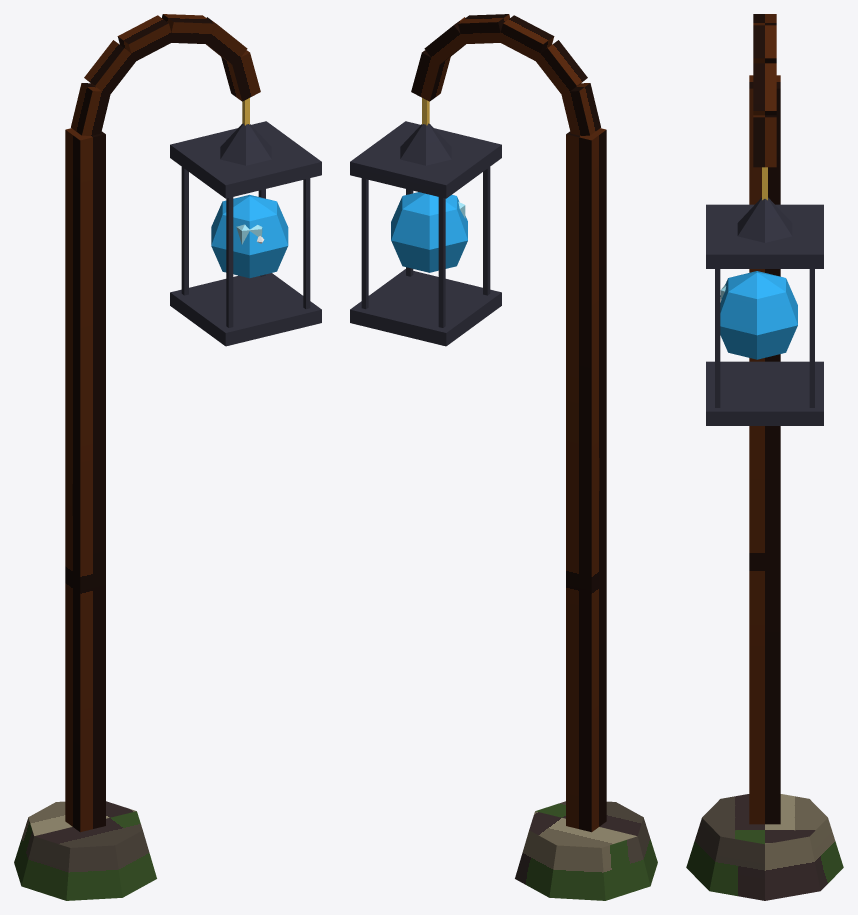
Rendered from wisp_lantern_post.glb.
The picture shows the model from 3 angles, left to right: view 1: azimuth 30°, elevation 25°; view 2: azimuth 150°, elevation 25°; view 3: azimuth 270°, elevation 25°; orthographic projection. The views are drawn at different scales.
Parts seen in each view (by area): view 1: wisp_lantern_post; view 2: wisp_lantern_post; view 3: wisp_lantern_post.
Boxes of the visible parts, x1,y1,x2,y2 form: wisp_lantern_post: [14, 14, 321, 900]; wisp_lantern_post: [350, 14, 657, 900]; wisp_lantern_post: [686, 14, 843, 900].
Bounding box in the file's own units: 0.85 × 2.48 × 0.4.
4 materials, 2 textured.
